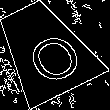O_NW: (10, 17, 80, 83)
